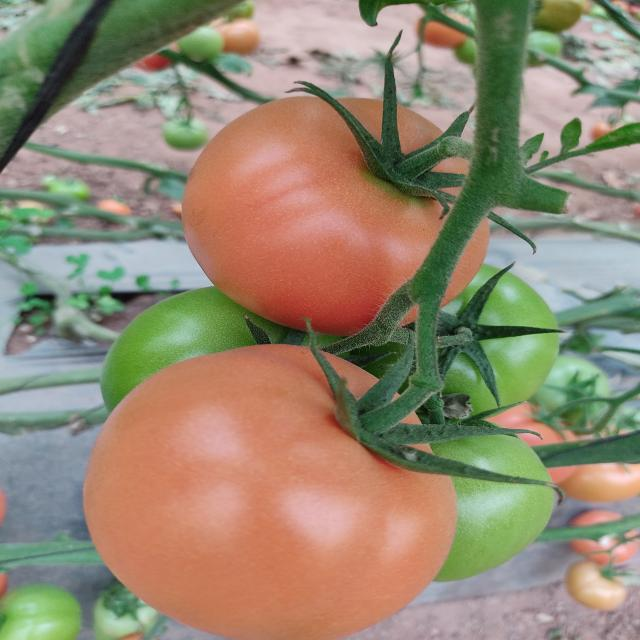Ripe Tomato: (81, 343, 457, 640), (180, 95, 497, 331)
Unripe Tomato: (360, 263, 554, 418)
